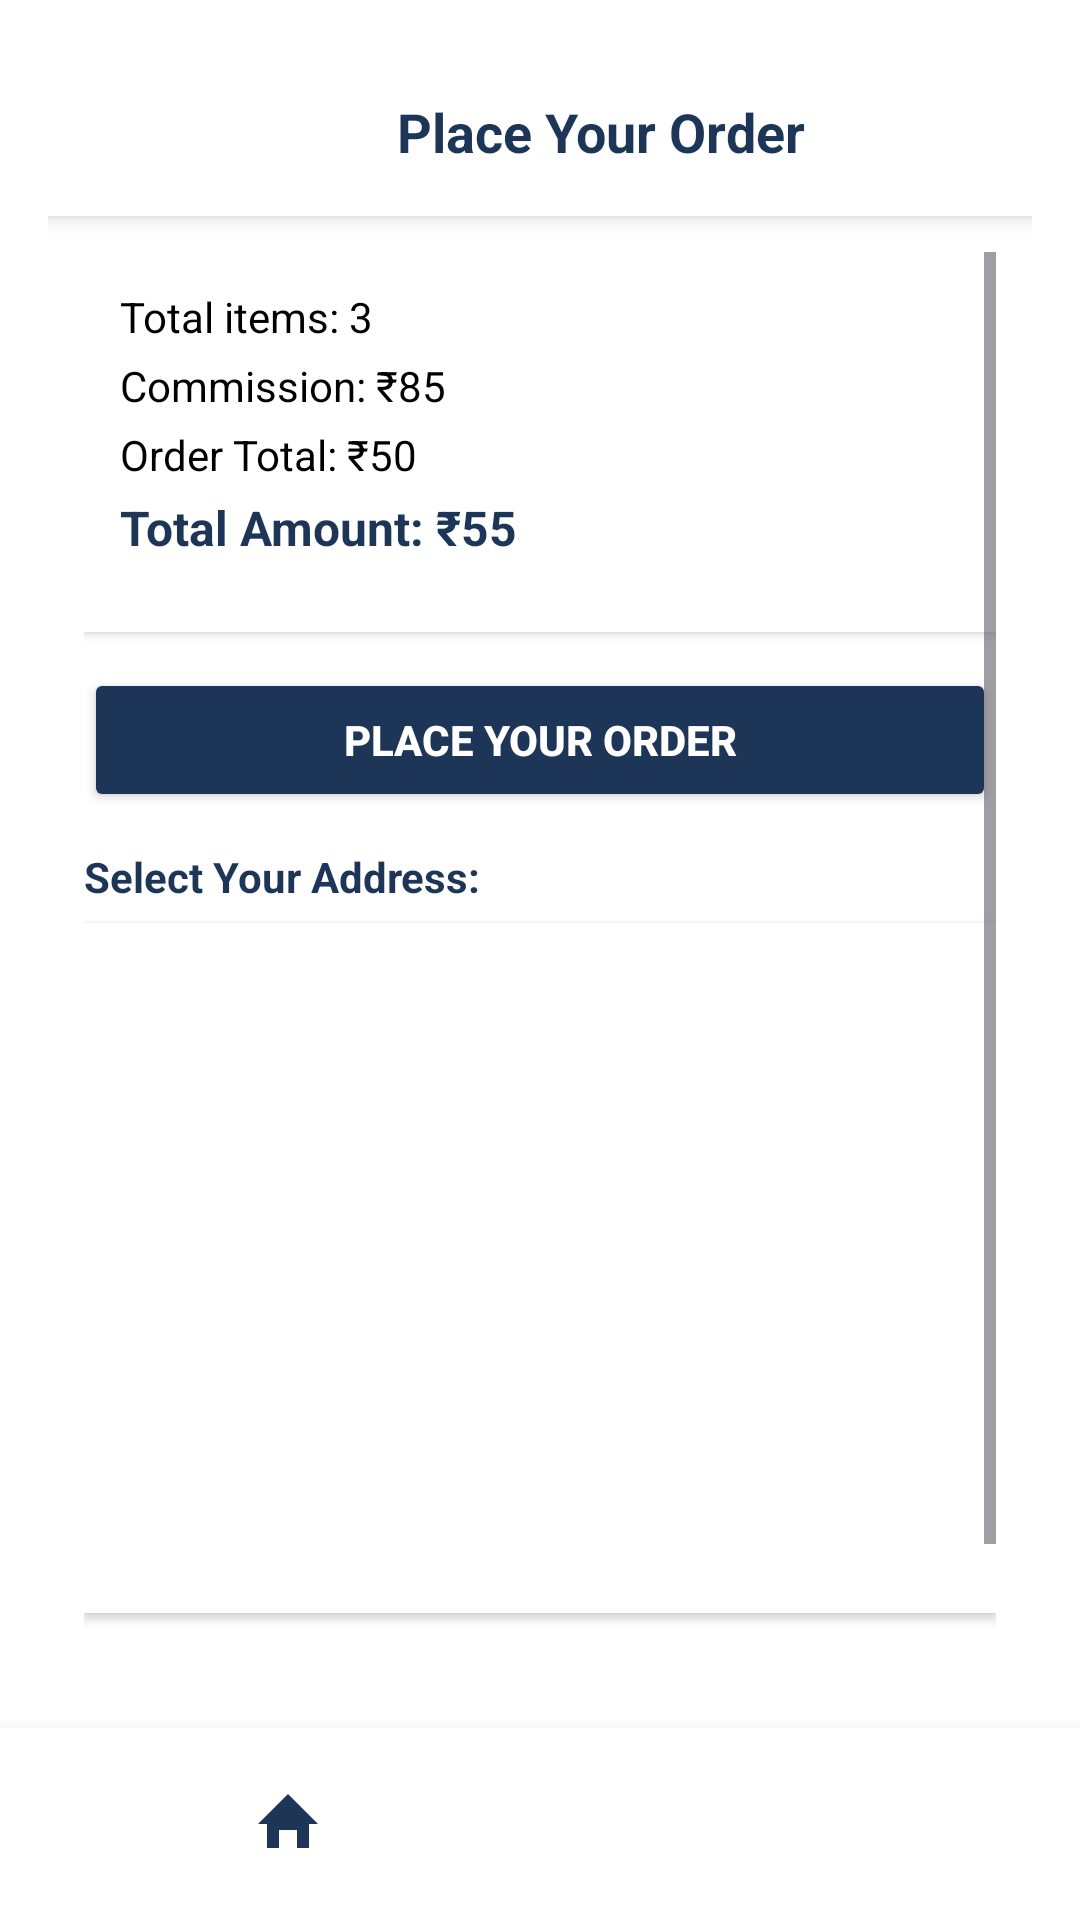

Icons on this 1080w x 1920h Android screen, each with the point to tap as [x,y]:
Home: [288,1821]
